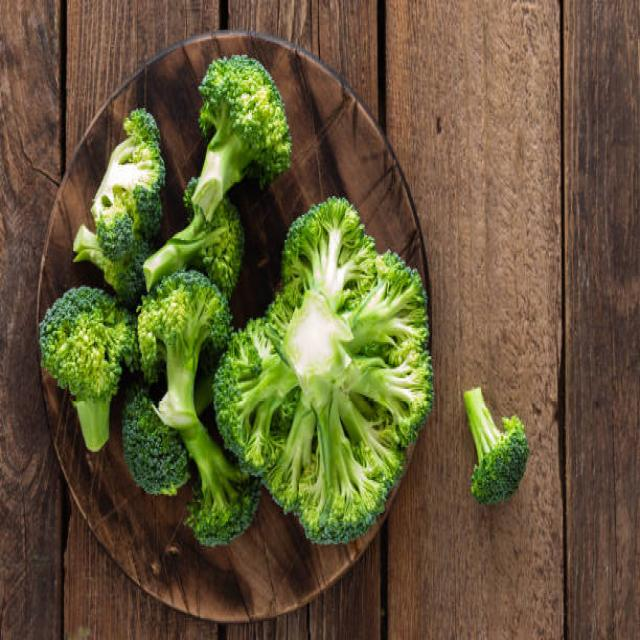Broccoli head: (241, 210, 432, 529), (176, 43, 287, 210), (452, 362, 551, 534), (150, 268, 244, 424), (28, 298, 128, 436), (76, 98, 168, 248), (182, 443, 257, 564)
